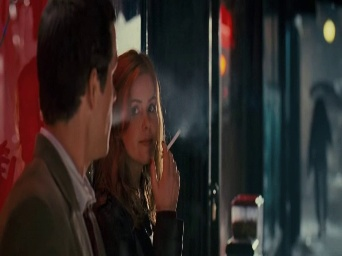smoke: (162, 127, 181, 157)
